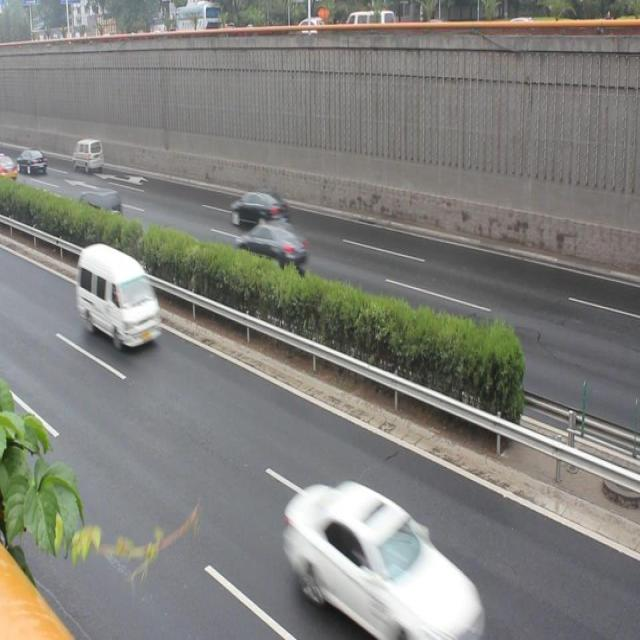car: (277, 461, 486, 640), (238, 214, 309, 275), (223, 183, 290, 229), (78, 180, 125, 227)
truck: (72, 239, 167, 358)
